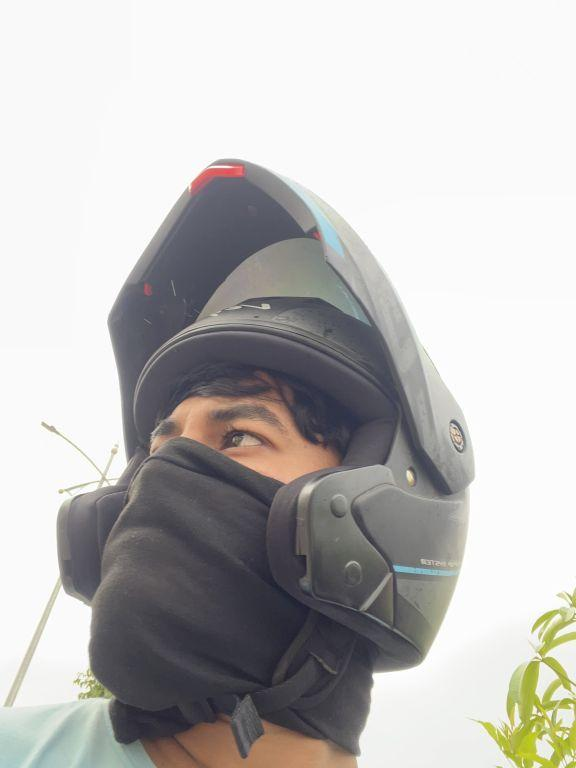helmet: (32, 144, 484, 730)
